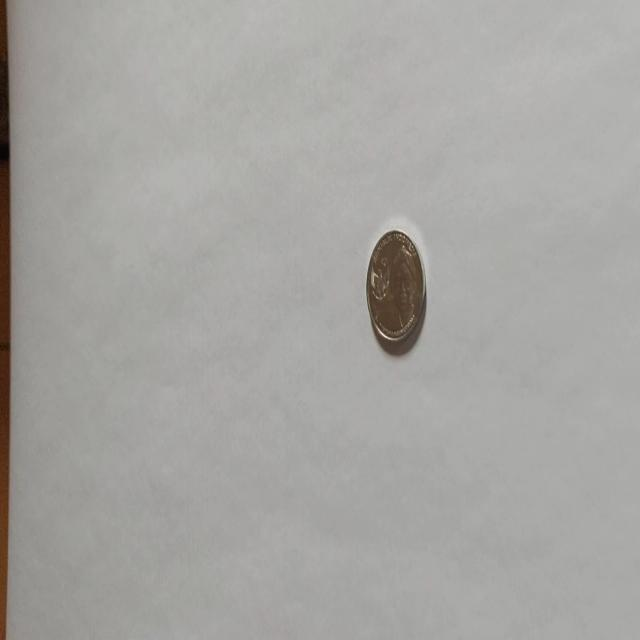dua ratus rupiah: (365, 228, 427, 346)
